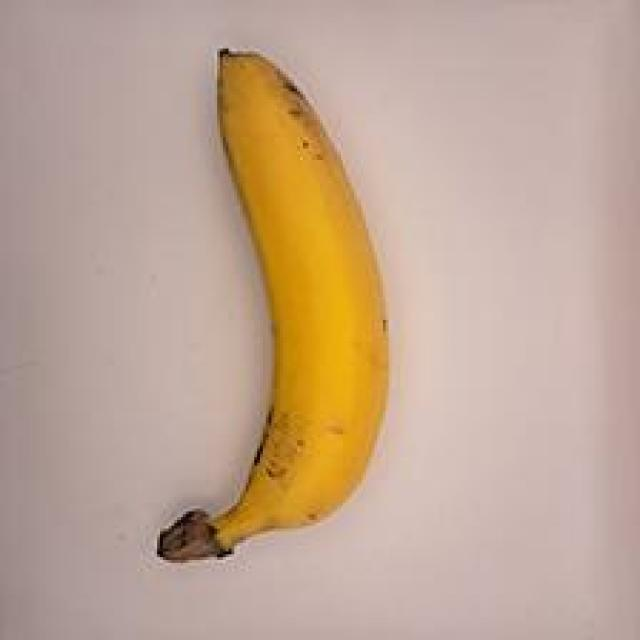ripe: (144, 33, 399, 564)
